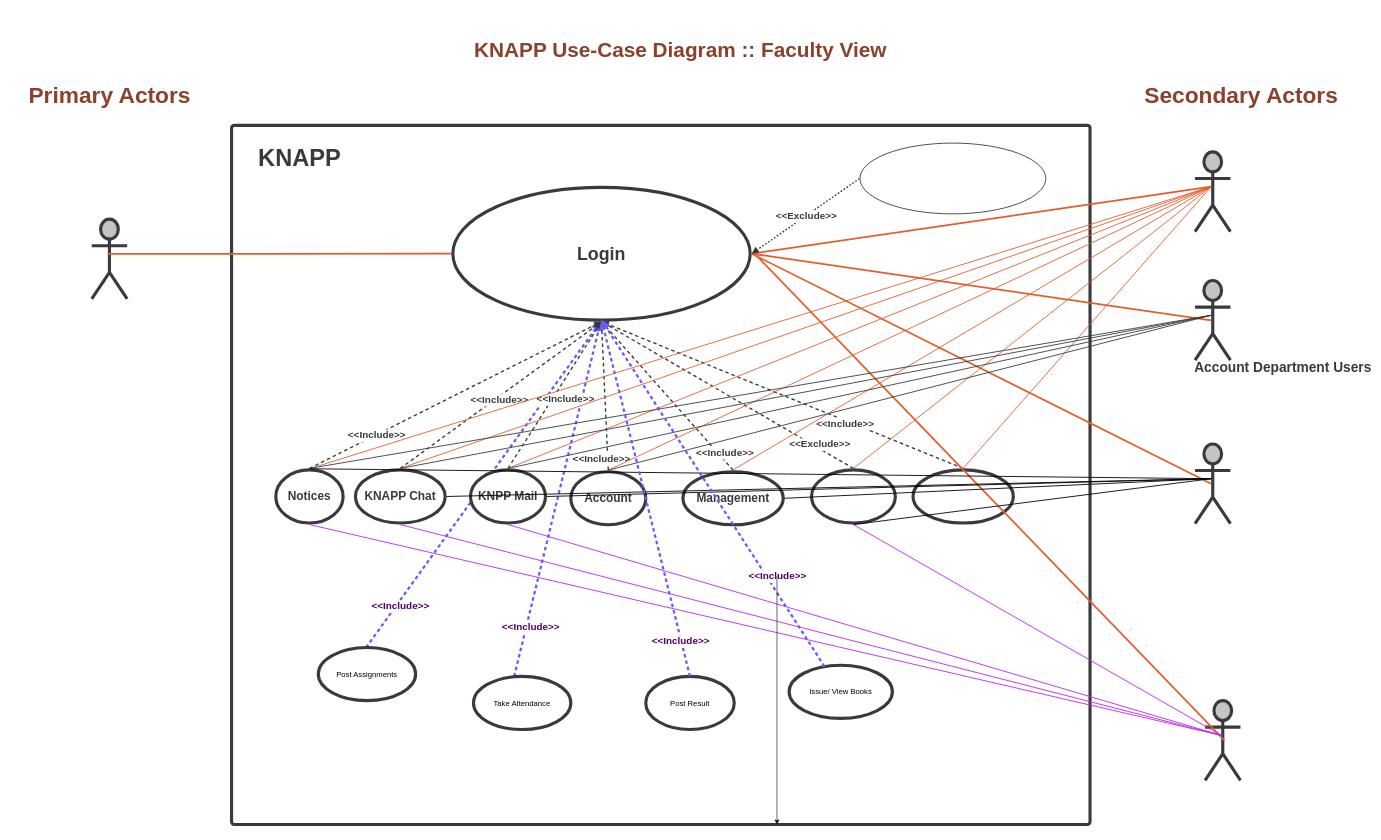
Some shapes in this 1381 by 840 pixel diagram are drawn without their labels. Here are the shapes that lost their labels. From the top down, the centre of each, then its label:
the point at 952,178: Login Account
the point at 1212,191: Admin
the point at 109,258: HODs/ HOIs and Faculties
the point at 853,496: Registration
the point at 963,496: Library
the point at 1212,483: Users Management
the point at 1222,740: Bus Management Users
